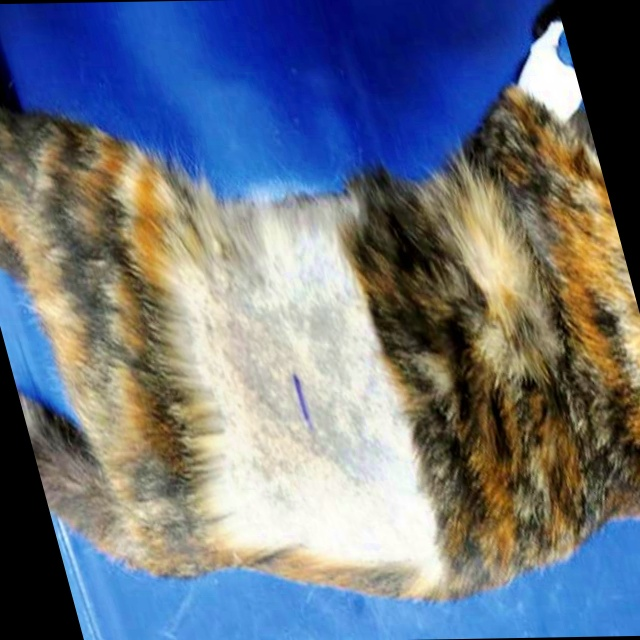hairloss: (154, 193, 447, 582)
